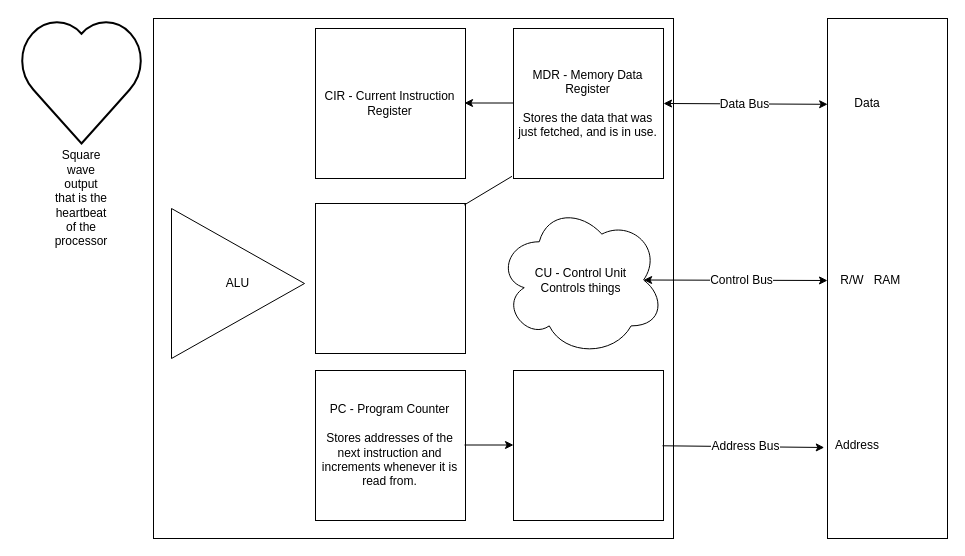
Some shapes in this 965 by 556 pixel diagram are drawn without their labels. The centre of each missing label's shape, as x and y in pixels:
"ACC - Accumulator" belongs at point 390,278.
"CLK - Clock" belongs at point 81,80.
"MAR - Memory address register Stores the address of the thing being fetched." belongs at point 588,445.
